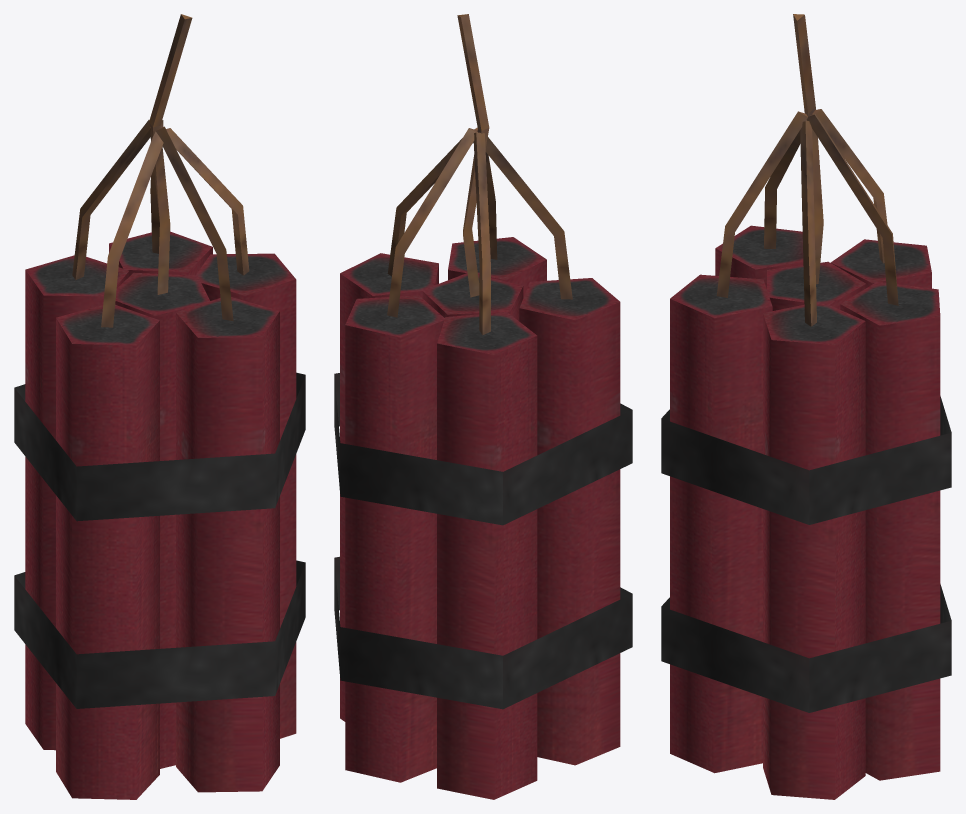
Rendered from TNT_01.fbx.
The picture shows the model from 3 angles, left to right: view 1: azimuth 30°, elevation 25°; view 2: azimuth 150°, elevation 25°; view 3: azimuth 270°, elevation 25°; orthographic projection. The views are drawn at different scales.
Visible parts, largest first — view 1: TNT_01; view 2: TNT_01; view 3: TNT_01.
Part boxes in pixels (x1,y1,x2,y2): TNT_01: [14, 14, 305, 799]; TNT_01: [334, 14, 632, 799]; TNT_01: [661, 14, 951, 799].
Bounding box in the file's own units: 22.16 × 58.08 × 20.87.
